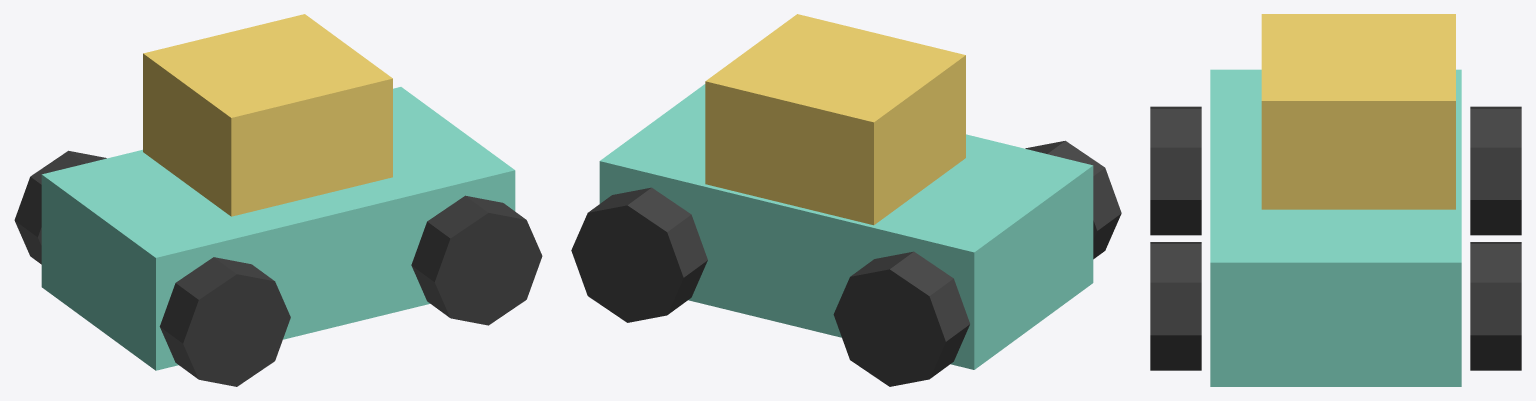
The picture shows the model from 3 angles, left to right: view 1: azimuth 30°, elevation 25°; view 2: azimuth 150°, elevation 25°; view 3: azimuth 270°, elevation 25°; orthographic projection. The views are drawn at different scales.
Parts seen in each view (by area): view 1: Chassis, Body module, Wheel, Wheel.002, Wheel.001; view 2: Chassis, Body module, Wheel.003, Wheel.001, Wheel; view 3: Chassis, Body module, Wheel, Wheel.001, Wheel.002, Wheel.003.
Part boxes in pixels (x1,y1,x2,y2): Chassis: (41, 87, 515, 370); Body module: (143, 14, 392, 216); Wheel: (159, 257, 290, 386); Wheel.002: (411, 195, 542, 325); Wheel.001: (14, 150, 106, 264); Chassis: (599, 84, 1093, 369); Body module: (705, 14, 965, 225); Wheel.003: (571, 187, 707, 322); Wheel.001: (833, 251, 969, 386); Wheel: (1025, 140, 1121, 259); Chassis: (1210, 69, 1461, 386); Body module: (1261, 14, 1455, 209); Wheel: (1150, 106, 1201, 235); Wheel.001: (1470, 106, 1521, 235); Wheel.002: (1150, 242, 1201, 370); Wheel.003: (1470, 242, 1521, 370).
Size of the model in its own units: 0.4 by 0.235 by 0.325.
1 material, 1 textured.
